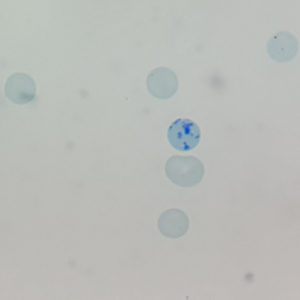aggregate reticulocyte: (165, 116, 202, 153)
erythrocyte: (163, 153, 205, 189), (2, 71, 38, 105), (156, 207, 190, 240)
punctate reticulocyte: (265, 30, 300, 65), (144, 66, 179, 100)
